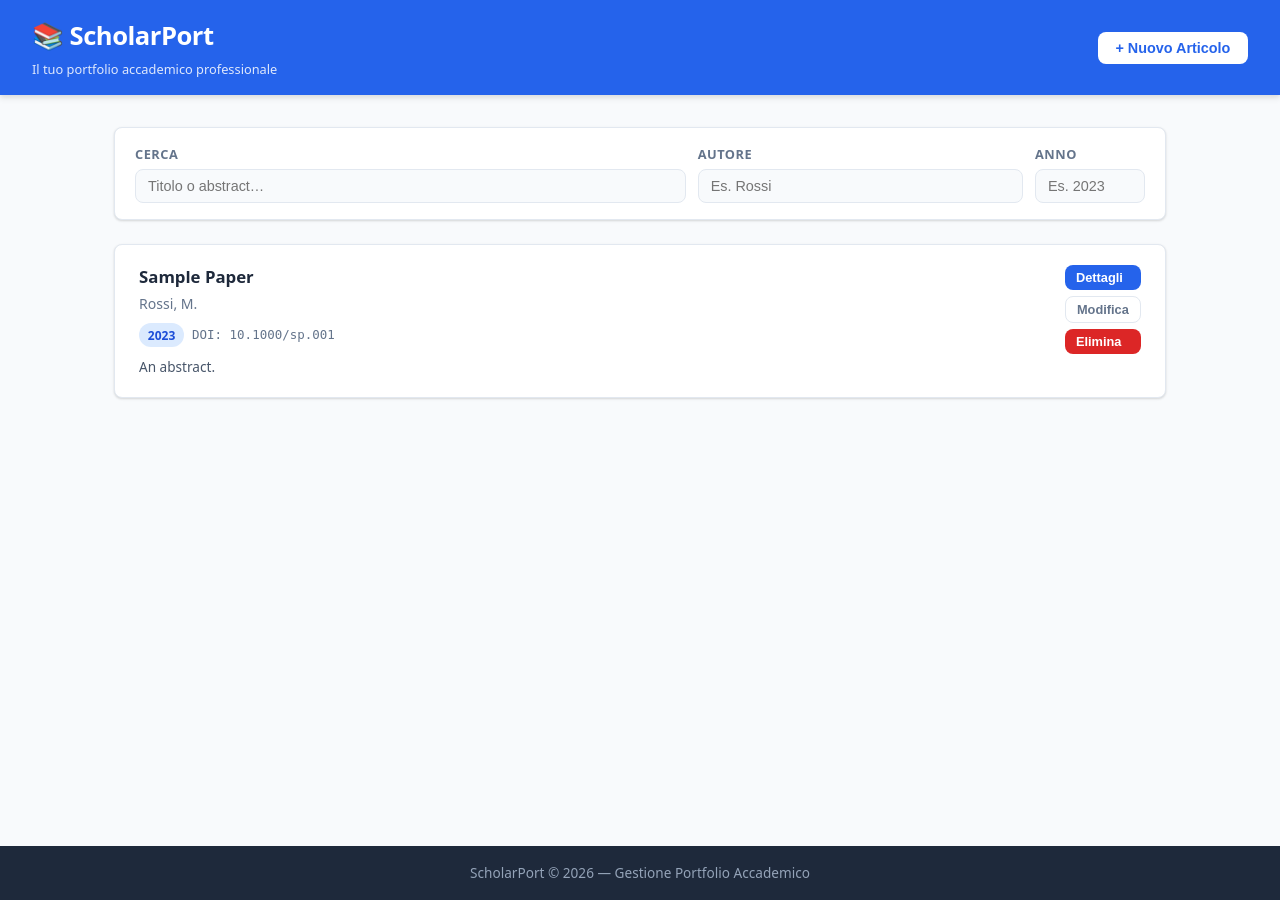
Scenario: App navigation › 3. navigates back to list when "Torna alla lista" is clicked
This screenshot has width=1280, height=900.
Expected: the heading "Sample Paper" is shown, top-left (139, 265), bottom-right (254, 288)
Click the button "+ Nuovo Articolo" at (1173, 48), box top-left (1098, 32), bottom-right (1248, 64)
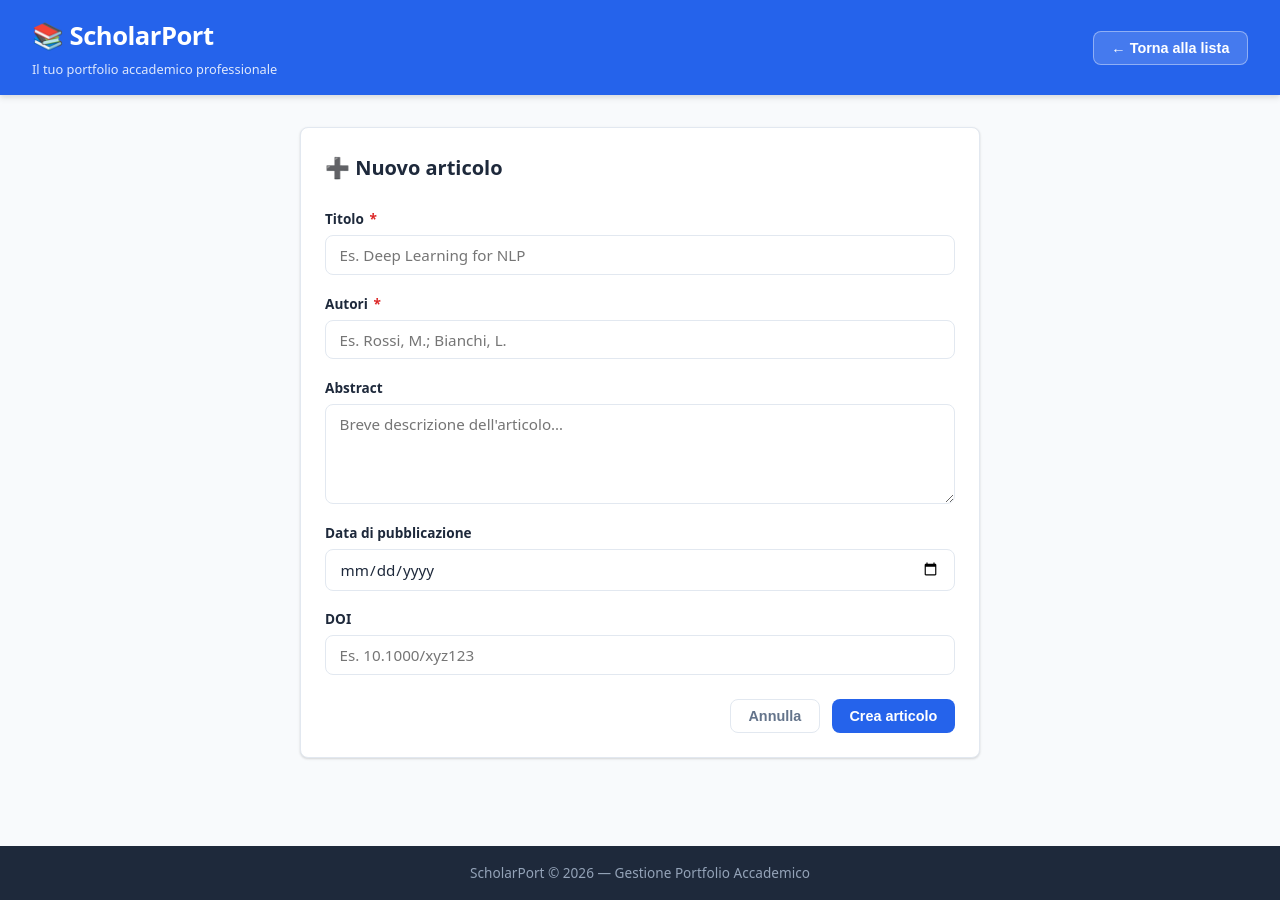
Click the button "← Torna alla lista" at (1170, 48), box top-left (1093, 30), bottom-right (1248, 64)
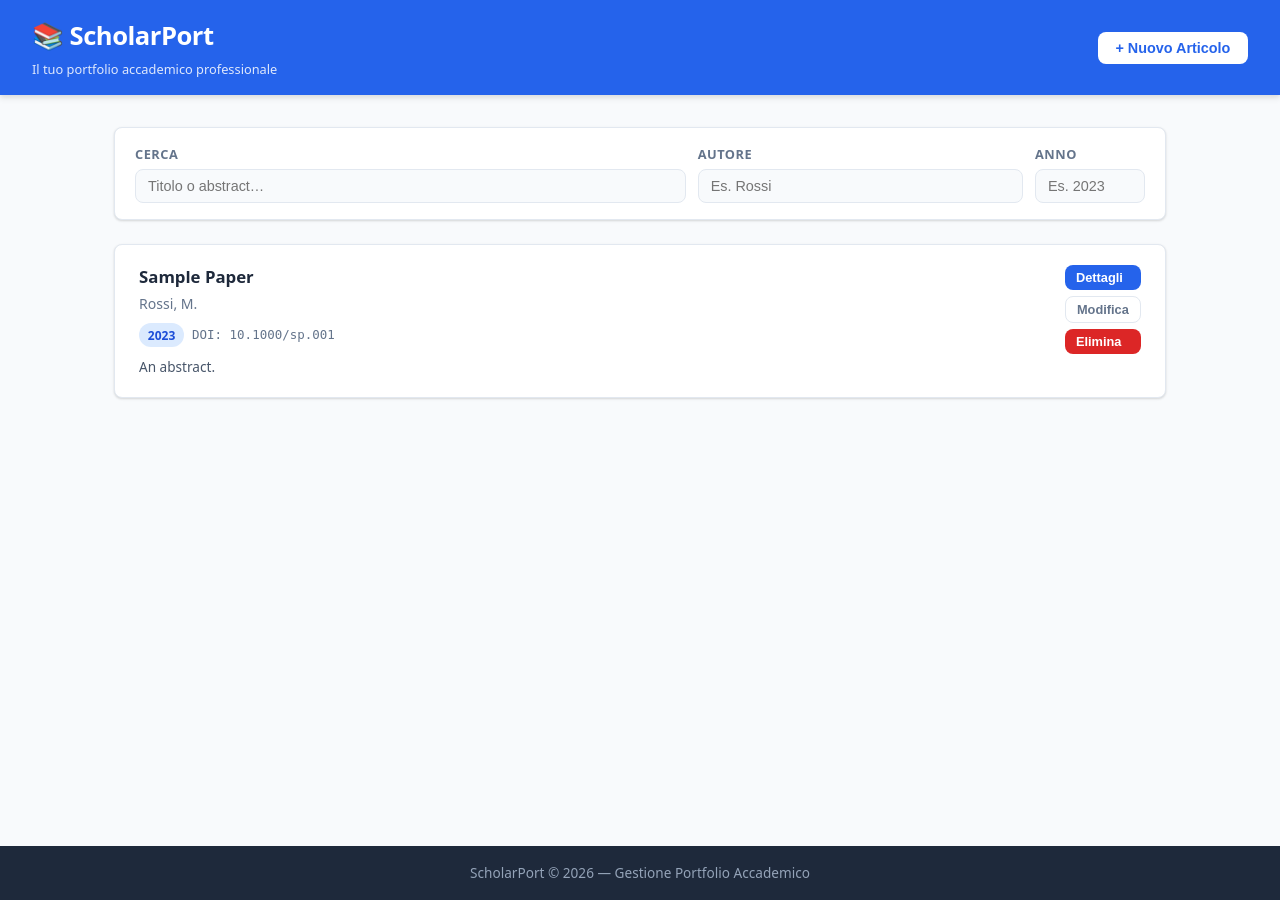
Expected: the heading "Sample Paper" is shown, top-left (139, 265), bottom-right (254, 288)
